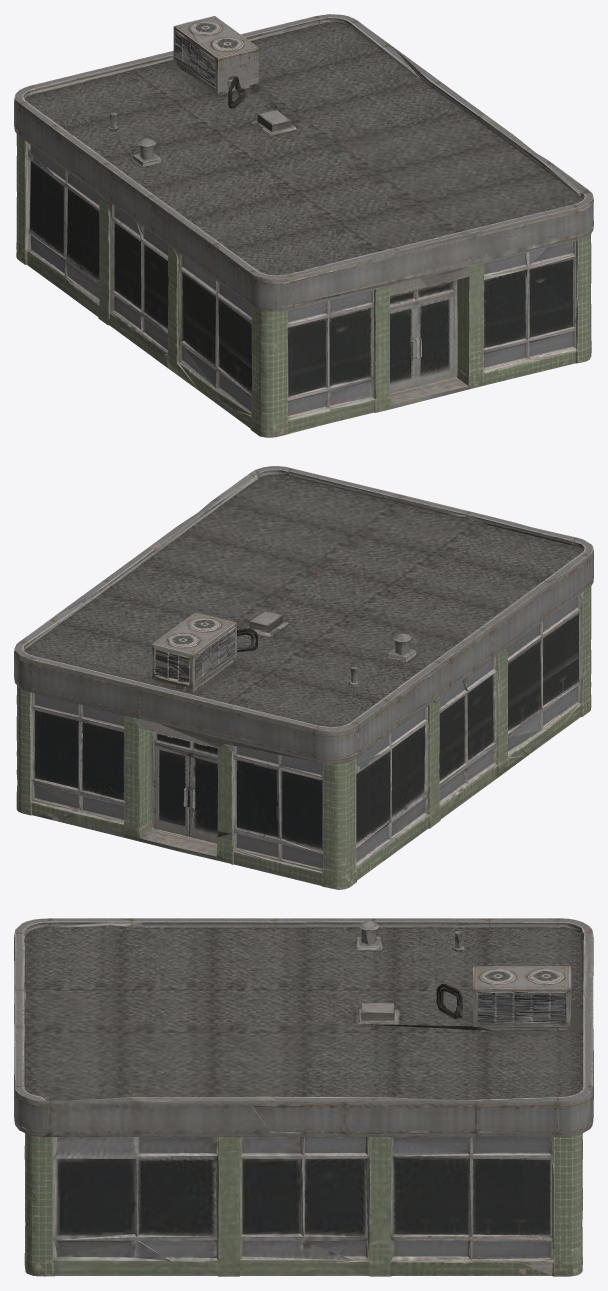
File: bld-diner.glb
3 renders of one model, top to bottom at view 1: azimuth 30°, elevation 25°; view 2: azimuth 150°, elevation 25°; view 3: azimuth 270°, elevation 25°, orthographic. The views are drawn at different scales.
Parts seen in each view (by area): view 1: output_unwrapped; view 2: output_unwrapped; view 3: output_unwrapped.
Boxes of the visible parts, bbox=[...] form: output_unwrapped: bbox=[14, 14, 593, 437]; output_unwrapped: bbox=[14, 466, 593, 889]; output_unwrapped: bbox=[14, 918, 593, 1276].
Bounding box in the file's own units: 1.43 × 0.7881 × 1.9.
1 material, 1 textured.
